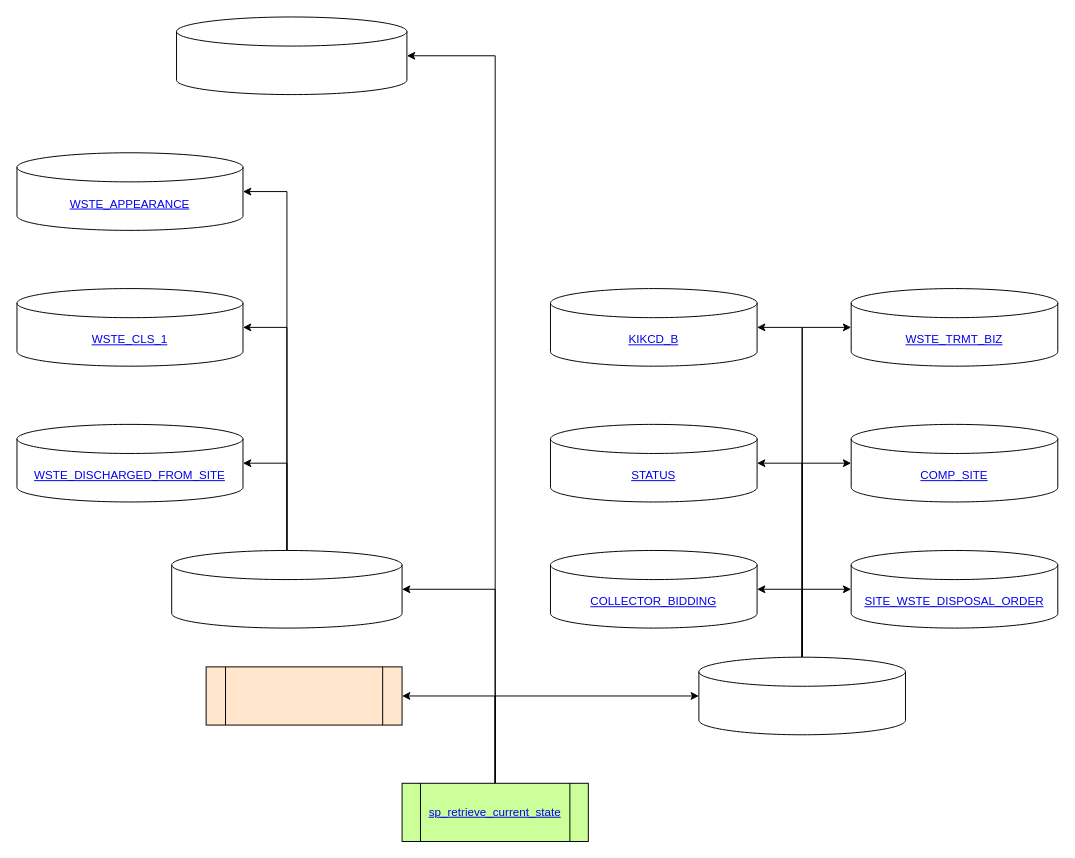
The diagram is 1075 pixels wide and 858 high, and some of its shapes have lost their labels. Each missing label, with the centre of its shape:
"sp_return_results" belongs at [303,695].
"V_COLLECTOR_BIDDING" belongs at [801,695].
"V_WSTE_DISCHARGED_FROM_SITE" belongs at [286,589].
"WSTE_REGISTRATION_PHOTO" belongs at [291,55].
